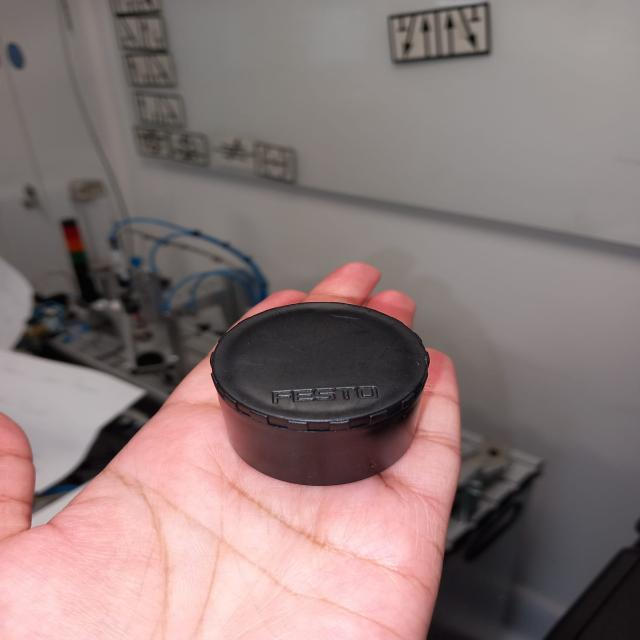Workpiece: (201, 292, 440, 488)
